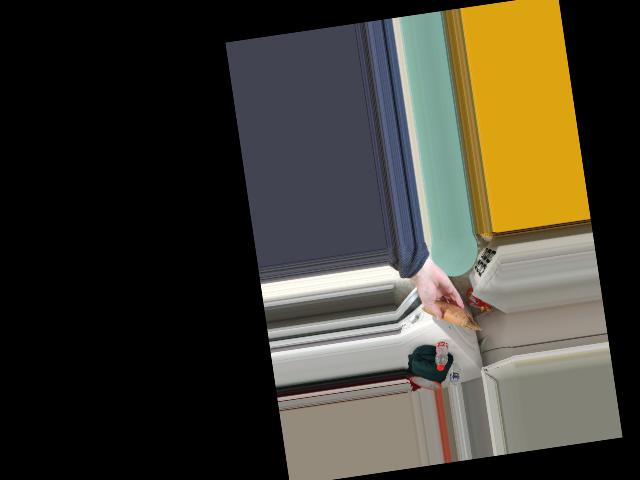sweet_potato: (430, 297, 467, 328)
